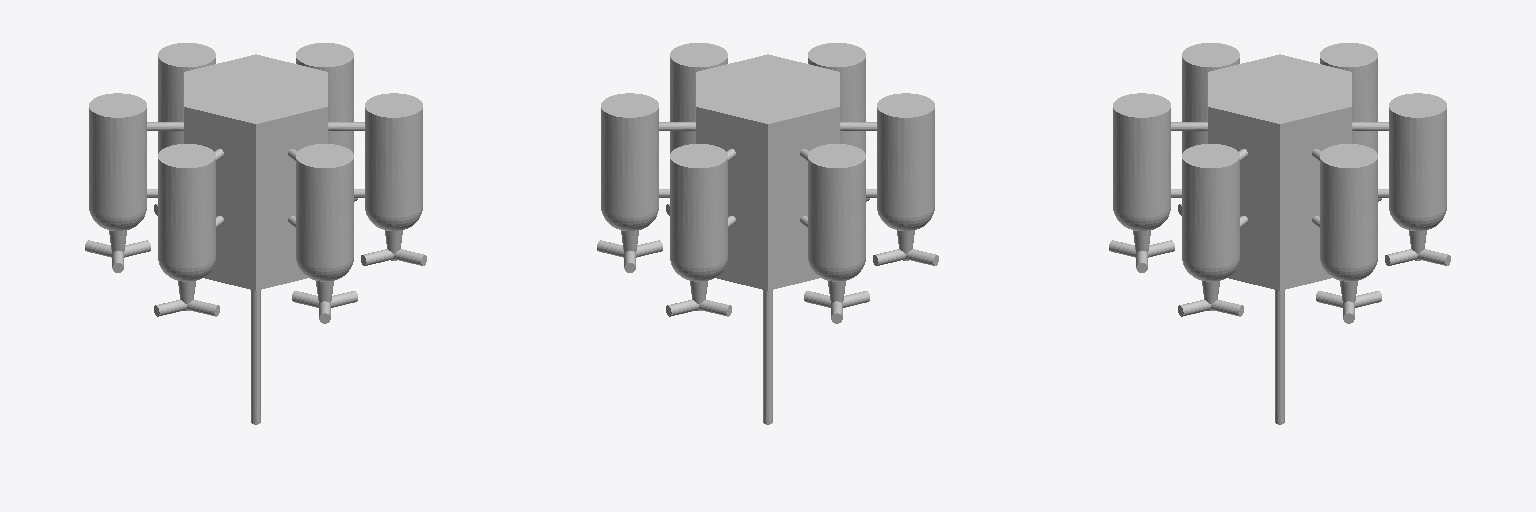
Rendered from newBarbot1.obj.
3 renders of one model, left to right at view 1: azimuth 30°, elevation 25°; view 2: azimuth 150°, elevation 25°; view 3: azimuth 270°, elevation 25°, orthographic.
Size of the model in its own units: 33.6 by 40 by 37.23.